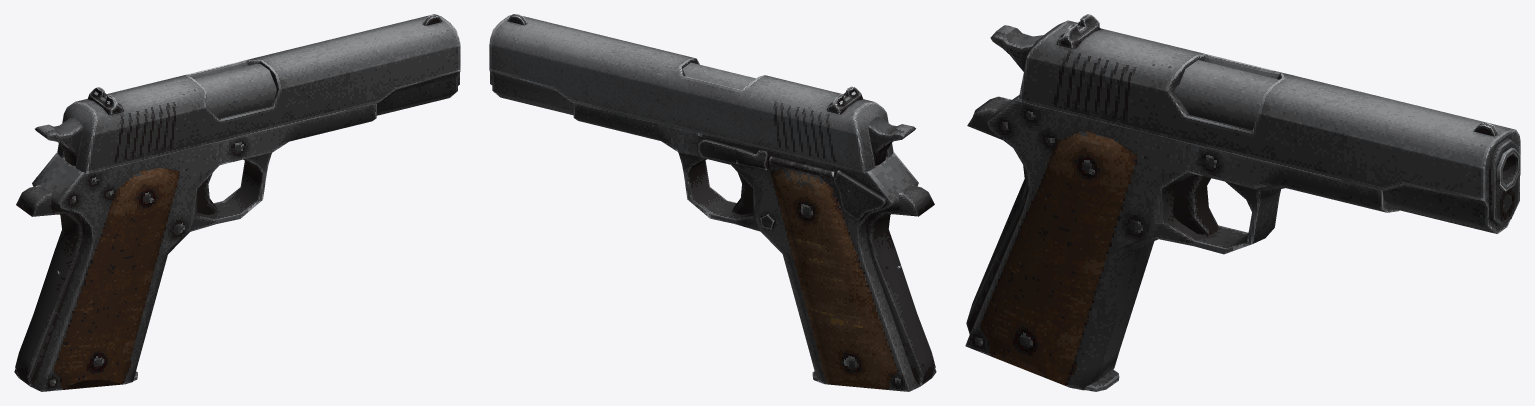
File: tp_pistol.glb
3 renders of one model, left to right at view 1: azimuth 30°, elevation 25°; view 2: azimuth 150°, elevation 25°; view 3: azimuth 330°, elevation 25°, orthographic. The views are drawn at different scales.
Visible parts, largest first — view 1: Main_Mesh, Slide_Mesh, Hammer_Mesh, Trigger_Mesh; view 2: Main_Mesh, Slide_Mesh, Hammer_Mesh, Trigger_Mesh; view 3: Main_Mesh, Slide_Mesh, Trigger_Mesh, Hammer_Mesh.
Boxes of the visible parts, left/top/right/bottom form: Main_Mesh: left=14, top=64, right=376, bottom=391; Slide_Mesh: left=57, top=14, right=460, bottom=173; Hammer_Mesh: left=35, top=117, right=82, bottom=166; Trigger_Mesh: left=197, top=173, right=218, bottom=214; Main_Mesh: left=573, top=62, right=936, bottom=391; Slide_Mesh: left=489, top=14, right=893, bottom=173; Hammer_Mesh: left=868, top=117, right=915, bottom=165; Trigger_Mesh: left=732, top=172, right=753, bottom=214; Main_Mesh: left=965, top=60, right=1520, bottom=390; Slide_Mesh: left=1018, top=14, right=1520, bottom=233; Trigger_Mesh: left=1173, top=174, right=1219, bottom=235; Hammer_Mesh: left=990, top=25, right=1043, bottom=71.
Size of the model in its own units: 22.38 by 14.2 by 3.22.
1 material, 1 textured.
